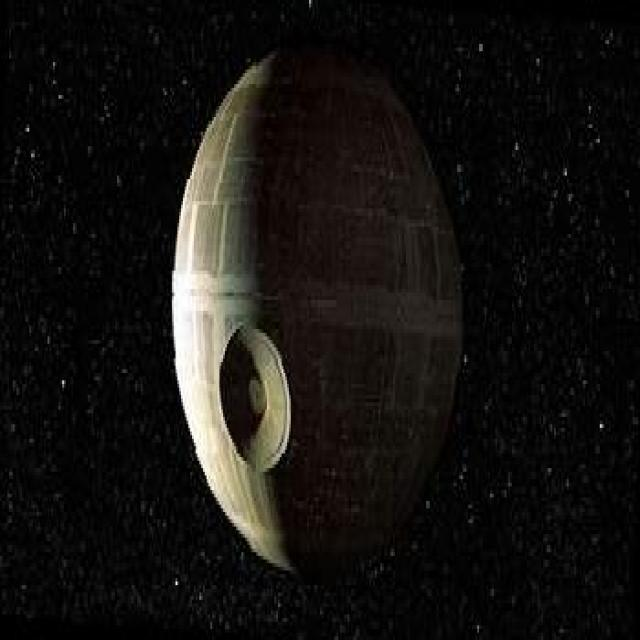Death Star: (167, 29, 468, 585)
